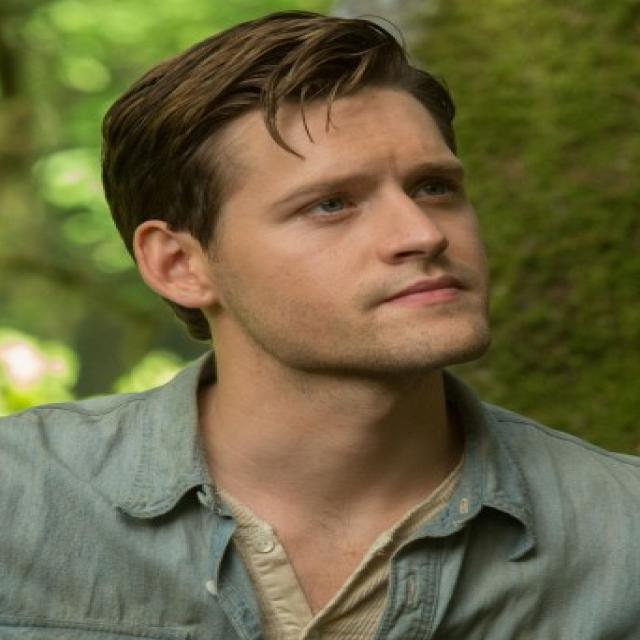mobile_phonerotation: (54, 20, 614, 640)
